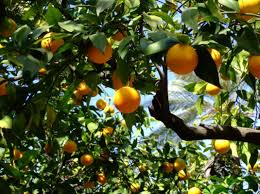orange: (167, 41, 199, 76), (113, 85, 142, 112), (86, 42, 114, 64), (39, 31, 64, 53)
